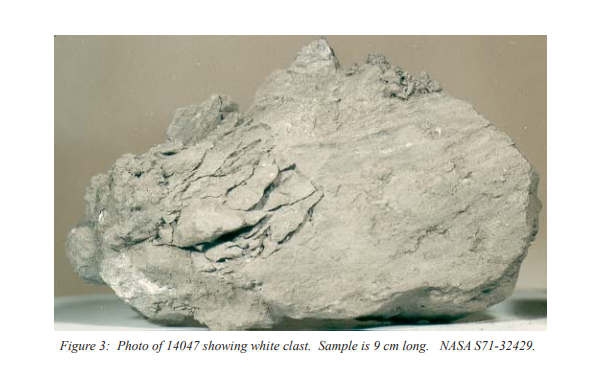Breccia: (55, 30, 541, 333), (67, 101, 443, 320)
